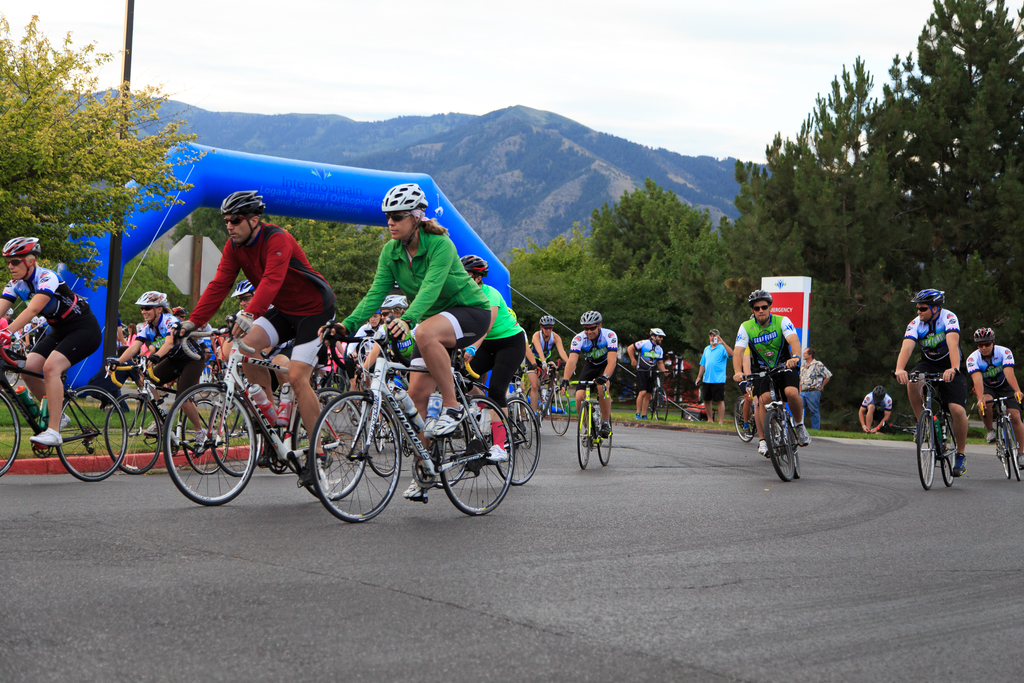Bike: (306, 319, 518, 522), (166, 311, 373, 502), (740, 358, 819, 484), (891, 366, 966, 488), (560, 376, 621, 469)
